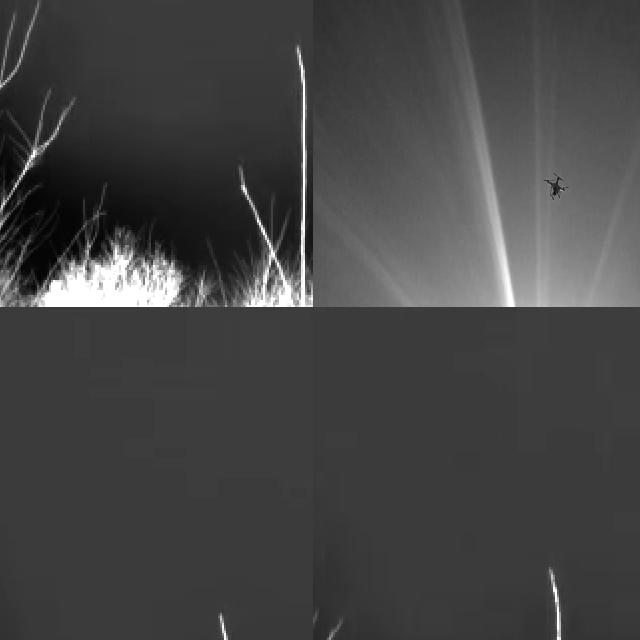drone: (543, 167, 566, 206)
